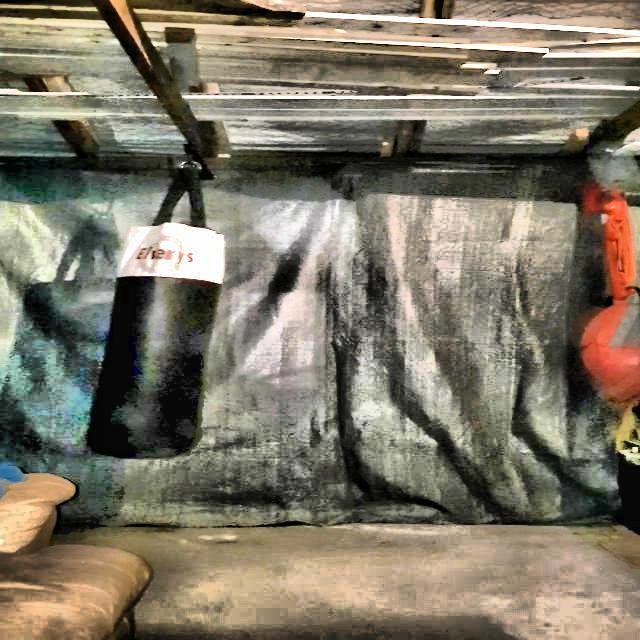boxing-bag: (96, 142, 228, 466)
